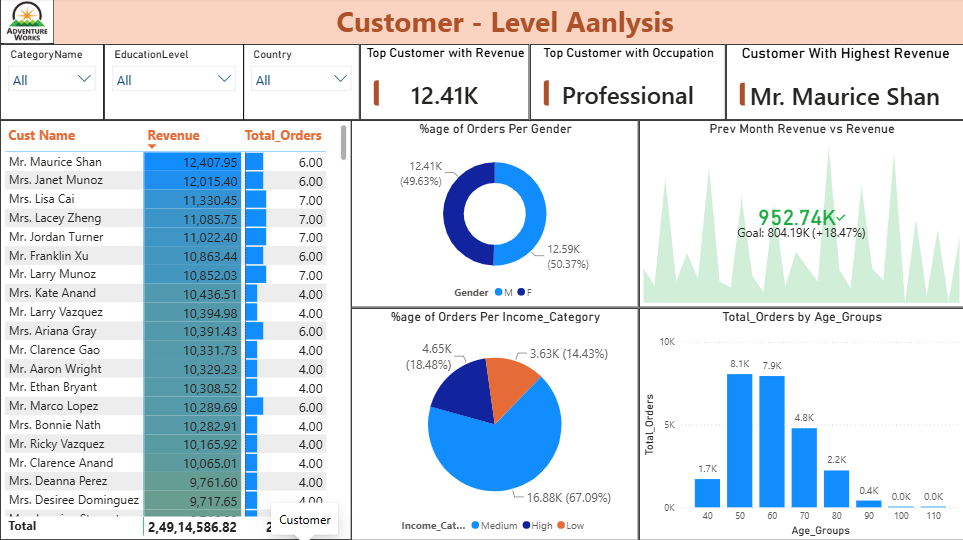

What the dashboard file says about the page in this screenshot:
{"tool":"powerbi","page":{"name":"Customer","canvas":[1280,720],"ordinal":2},"visuals":[{"type":"image","box":[0,0,71.7,61.5],"z":0},{"type":"pivotTable","fields":{"Rows":["Customers.Cust Name"],"Values":["Sales.Revenue","Sales.Total_Orders"]},"box":[0,162.4,466.8,557.6],"z":1000},{"type":"donutChart","title":"%age of Orders Per Gender","fields":{"Category":["Customers.Gender"],"Y":["Sales.Total_Orders"]},"box":[466.8,162.4,382,248.8],"z":2000},{"type":"pieChart","title":"%age of Orders Per Income_Category","fields":{"Category":["Customers.Income_Category"],"Y":["Sales.Total_Orders"]},"box":[466.8,411.2,382,308.8],"z":3000},{"type":"cardVisual","title":"Customer With Highest Revenue","fields":{"Data":["Min(Customers.Cust Name)"]},"box":[964.4,61.5,316.1,101],"z":4000},{"type":"cardVisual","title":"Top Customer with Occupation","fields":{"Data":["Min(Customers.Occupation)"]},"box":[703.9,61.5,260.5,101],"z":5000},{"type":"cardVisual","title":"Top Customer with Revenue","fields":{"Data":["Sales.Revenue"]},"box":[478.5,61.5,225.4,101],"z":6000},{"type":"kpi","title":"Prev Month Revenue vs Revenue","fields":{"TrendLine":["Calendar.Months"],"Indicator":["Sales.Revenue"],"Goal":["Sales.Prev_Month_Revenue"]},"box":[848.8,162.4,431.7,248.8],"z":7000},{"type":"clusteredColumnChart","fields":{"Category":["Customers.Age_Groups"],"Y":["Sales.Total_Orders"]},"box":[848.8,411.2,431.7,308.8],"z":8000},{"type":"slicer","fields":{"Values":["Customers.EducationLevel"]},"box":[137.6,61.5,185.9,101],"z":9000},{"type":"slicer","fields":{"Values":["Territories.Country"]},"box":[323.4,61.5,155.1,101],"z":10000},{"type":"slicer","fields":{"Values":["Categories.CategoryName"]},"box":[0,61.5,137.6,101],"z":11000},{"type":"textbox","box":[71.7,0,1208.8,61.5],"z":12000}]}

Visuals, with their boxes on the page's 1280x720 design canvas (x1, y1, x2, y2). These are canvas units, not pixel positions in the 963x540 screenshot, which may show the page scaled, cropped or inside an application window:
image: 0/0/72/62
pivotTable - Customers.Cust Name x Sales.Revenue: 0/162/467/720
"%age of Orders Per Gender" donutChart: 467/162/849/411
"%age of Orders Per Income_Category" pieChart: 467/411/849/720
"Customer With Highest Revenue" cardVisual: 964/62/1280/162
"Top Customer with Occupation" cardVisual: 704/62/964/162
"Top Customer with Revenue" cardVisual: 478/62/704/162
"Prev Month Revenue vs Revenue" kpi: 849/162/1280/411
clusteredColumnChart - Customers.Age_Groups x Sales.Total_Orders: 849/411/1280/720
slicer - Customers.EducationLevel: 138/62/324/162
slicer - Territories.Country: 323/62/478/162
slicer - Categories.CategoryName: 0/62/138/162
textbox: 72/0/1280/62
